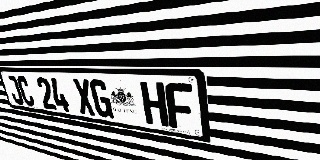2: (35, 77, 57, 110)
4: (48, 77, 70, 112)
C: (15, 76, 36, 107)
F: (164, 83, 195, 131)
G: (88, 79, 114, 119)
H: (140, 82, 169, 127)
J: (5, 76, 25, 105)
X: (72, 79, 96, 116)
